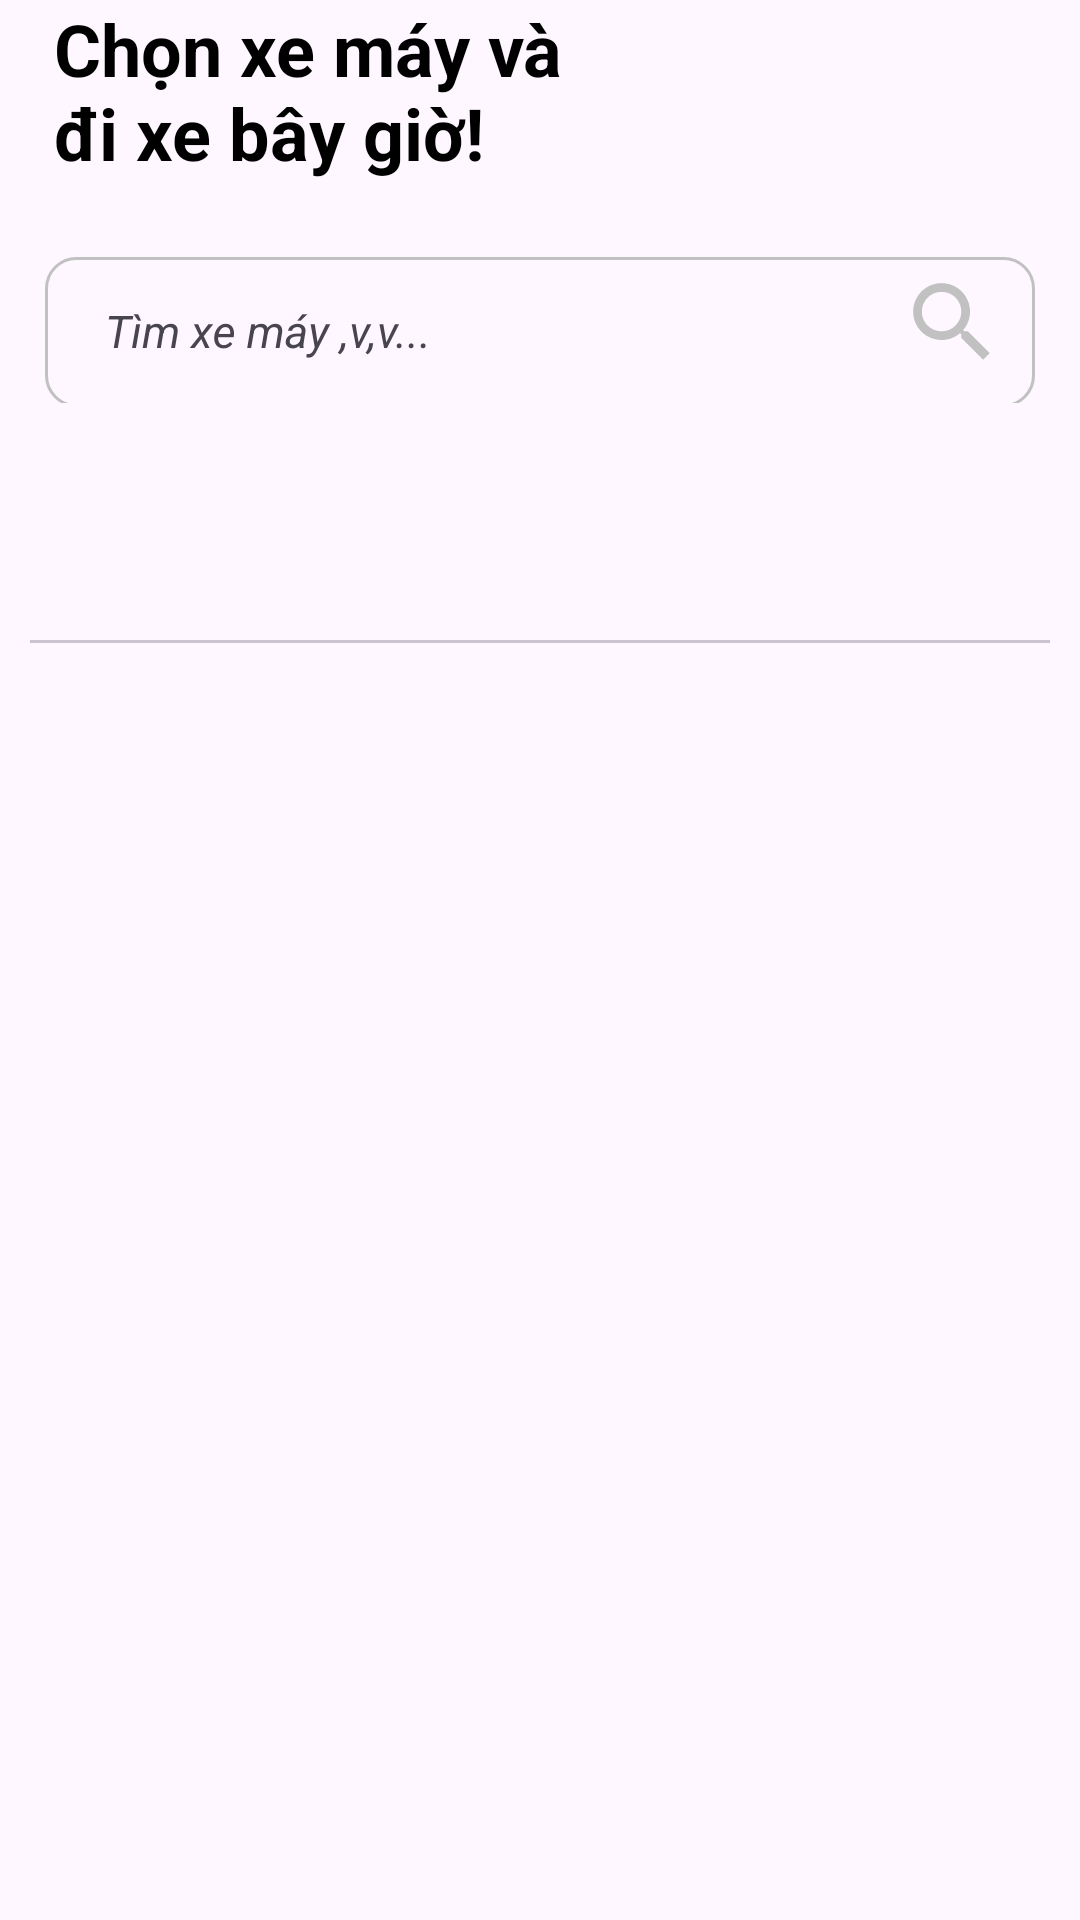

Screen size 1080×1920. Icon name, then its center in pixels as (x=x, y=y):
search: (x=951, y=321)
